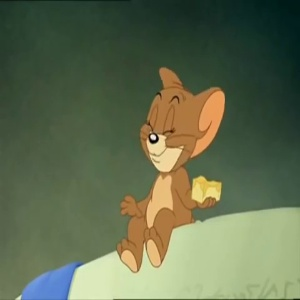Jerry: (137, 59, 226, 173)
